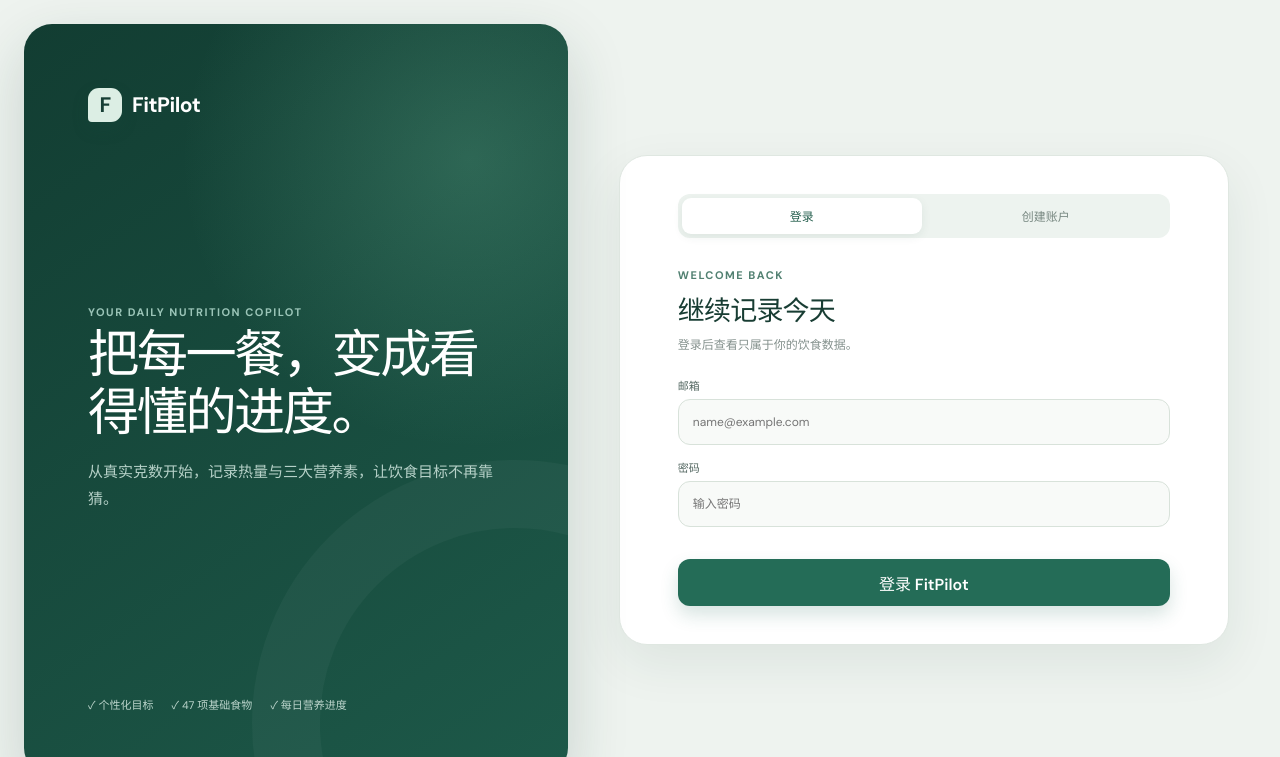
Test: FitPilot 核心饮食流程 › 注册表单不再要求重复填写训练次数
Click the button "创建账户" at (1046, 216), box [926,198,1166,234]
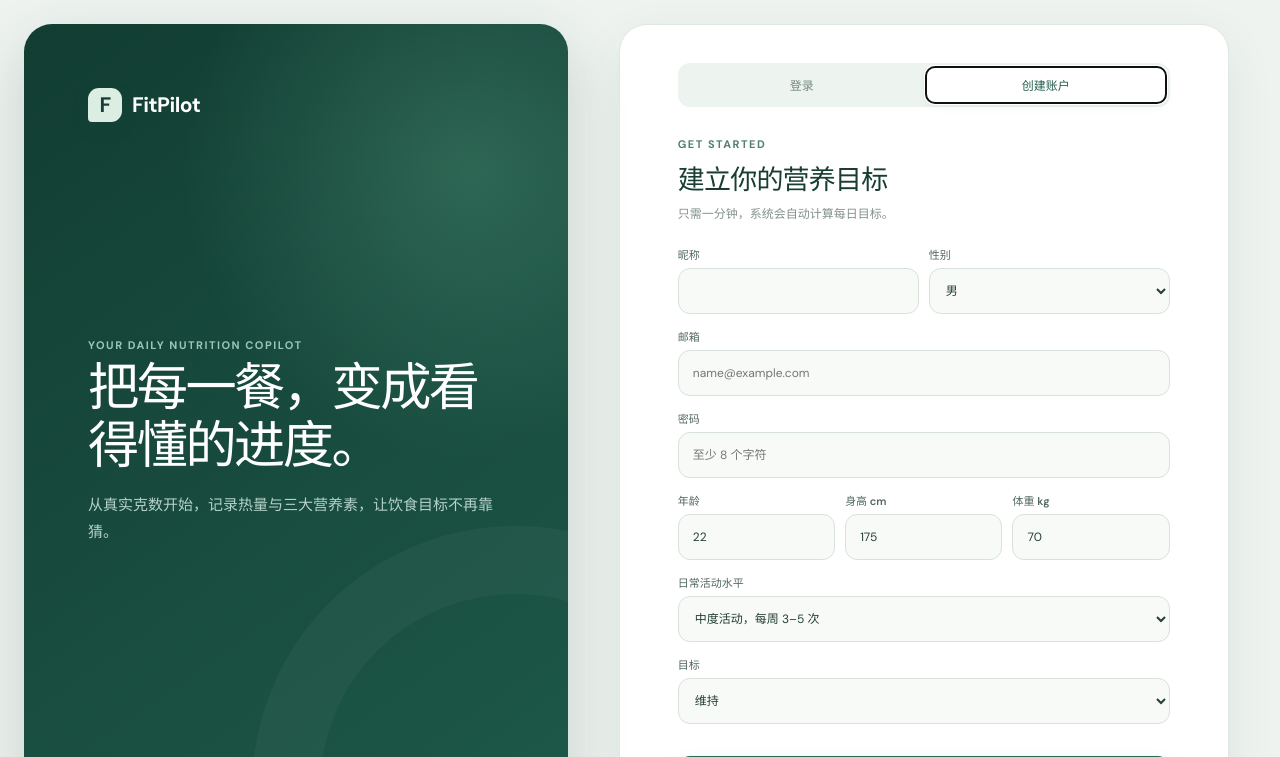
Type "Test" into the field labelled "昵称" at (798, 291), box [678,268,919,314]
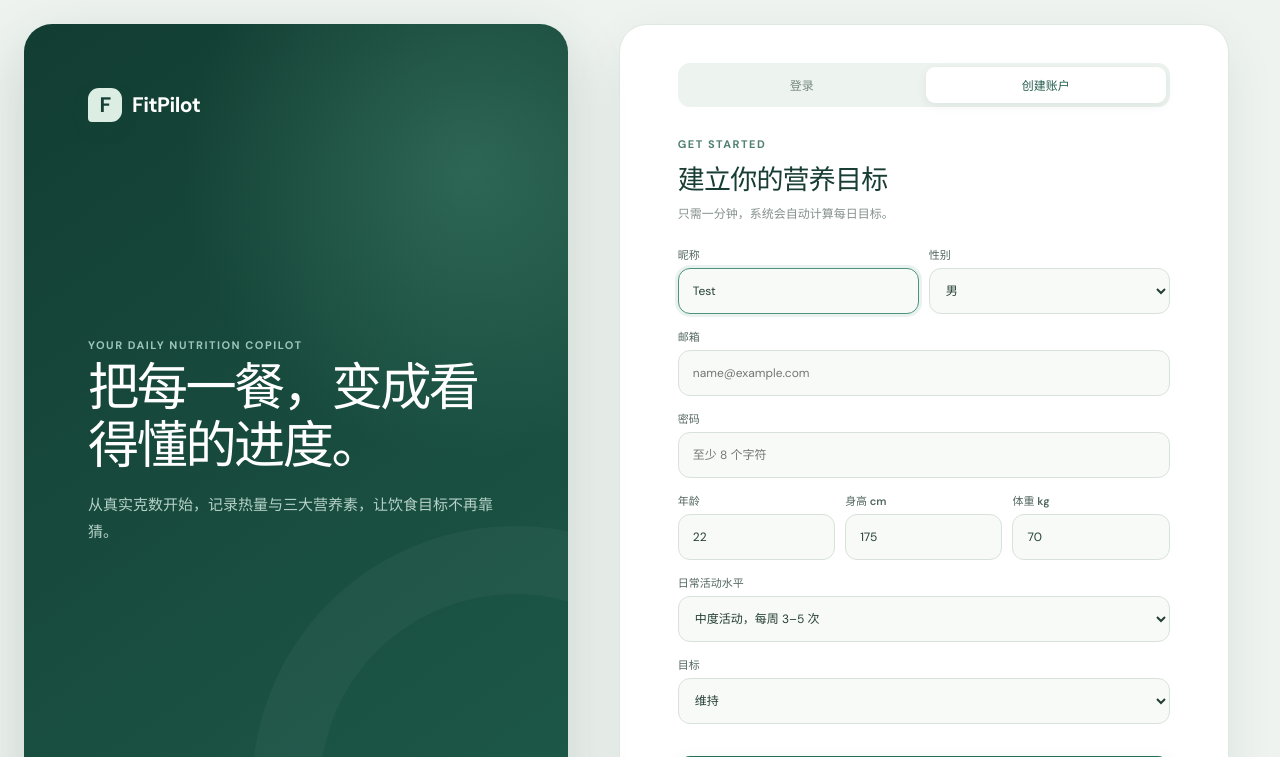
Type "test@example.com" into the field labelled "邮箱" at (924, 373), box [678,350,1170,396]
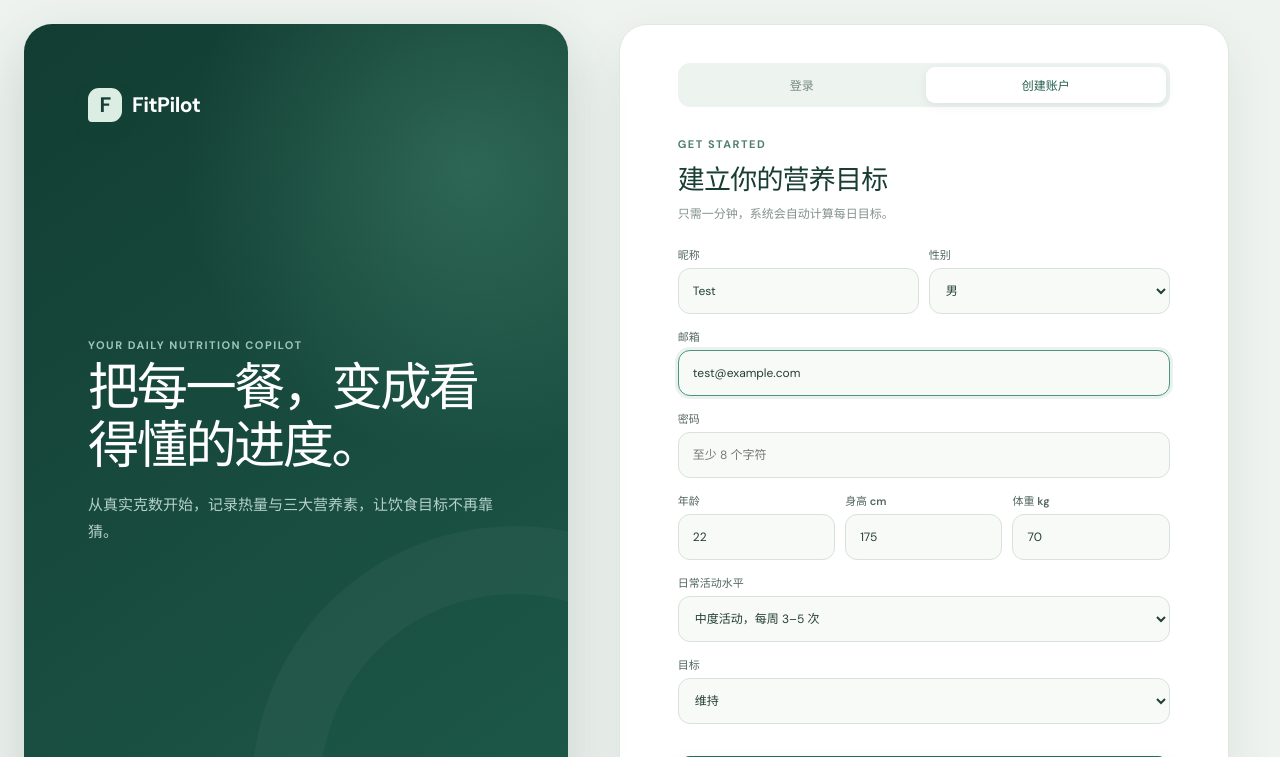
Type "password123" into the password field labelled "密码" at (924, 455), box [678,432,1170,478]
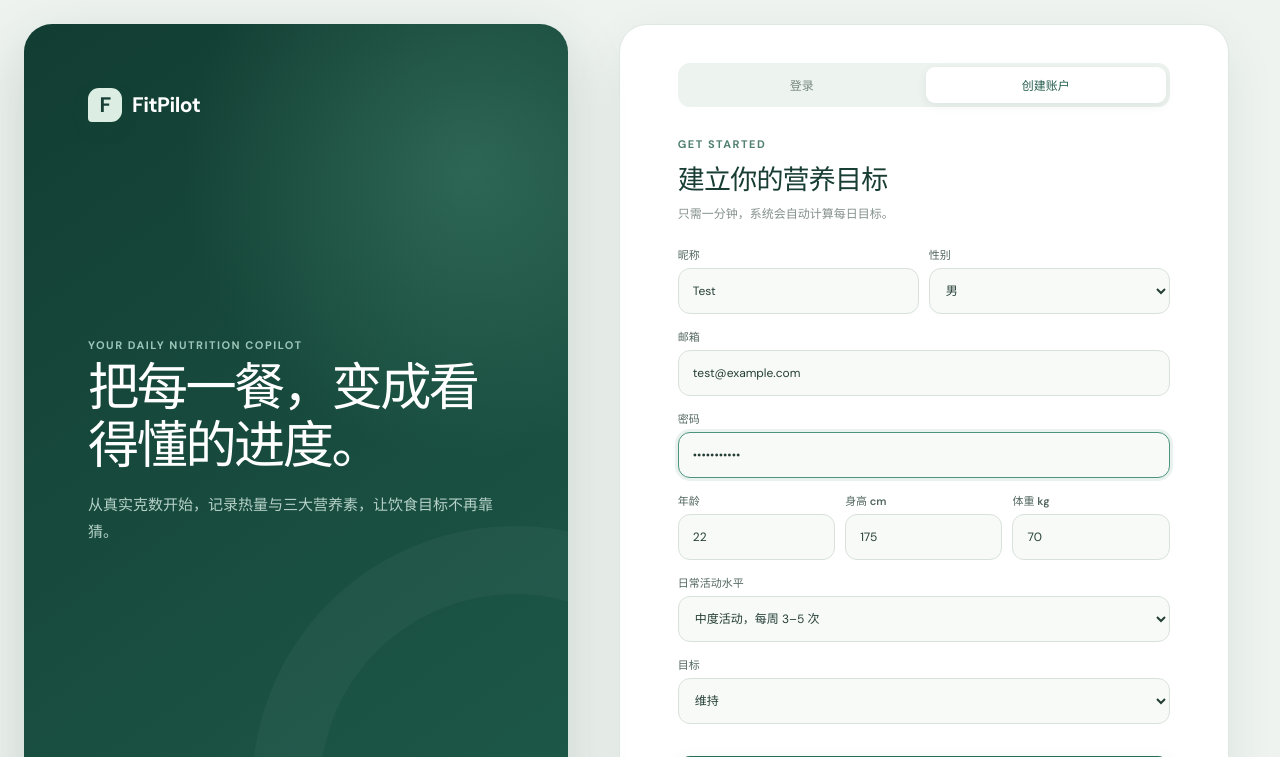
Select "高活动，每周 6–7 次" in the dropdown labelled "日常活动水平" at (924, 619), box [678,596,1170,642]
(page scrolled)
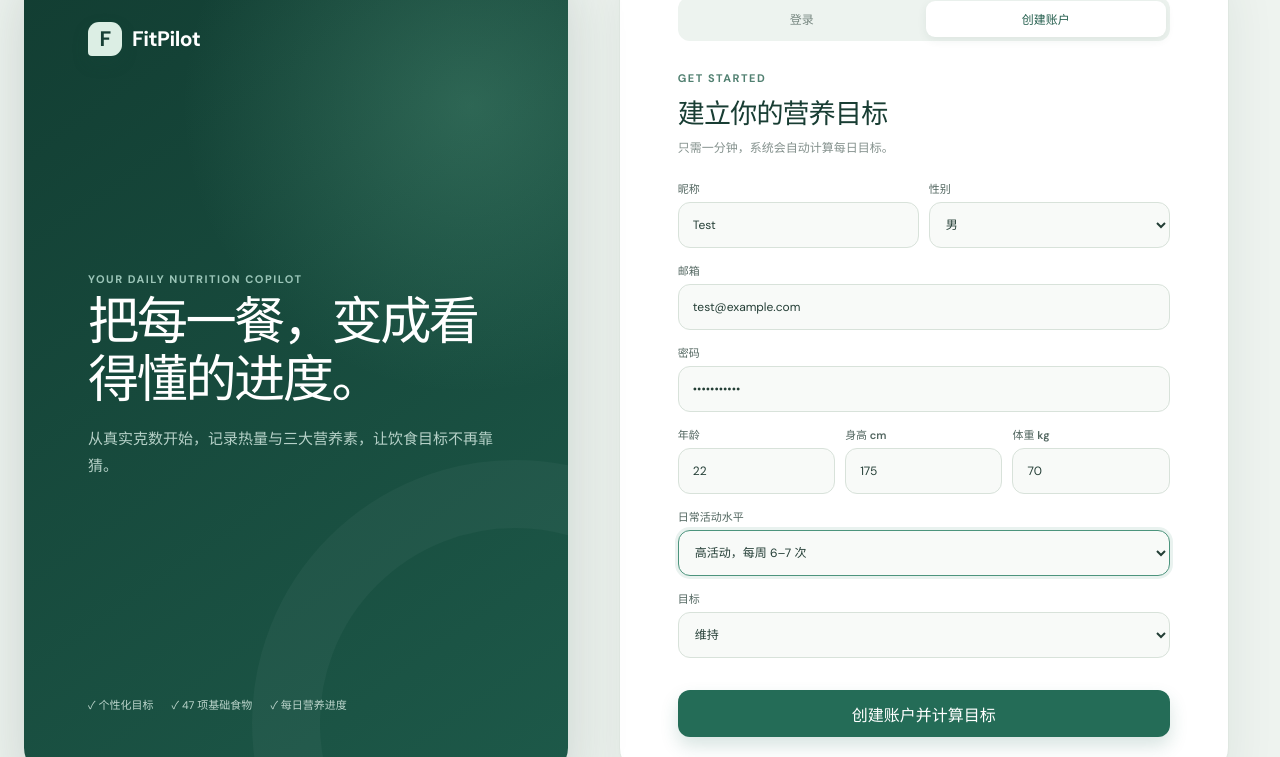
Click the button "创建账户并计算目标" at (924, 714), box [678,690,1170,737]
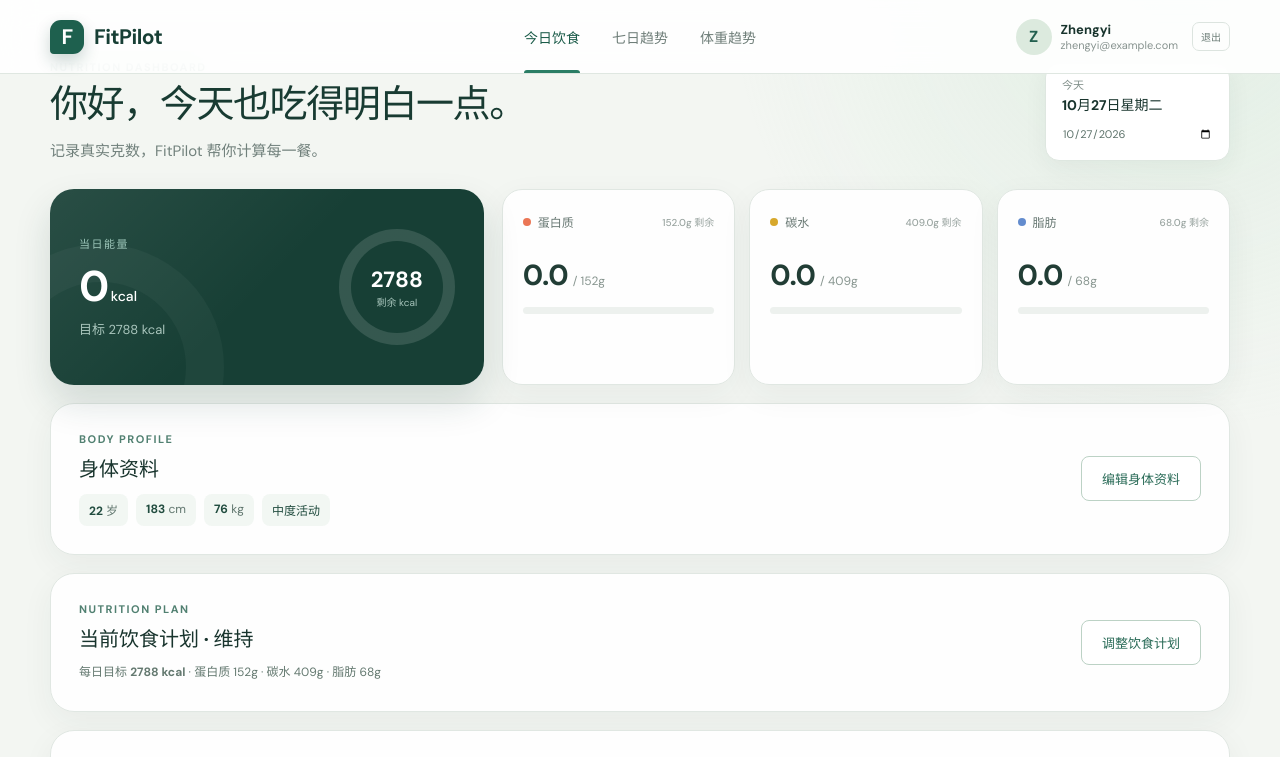
Expected: the heading "身体资料" is shown, [79,456,159,482]
